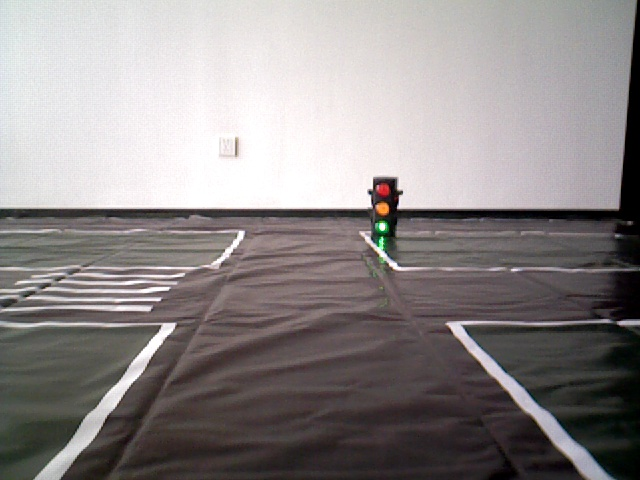green: (372, 177, 393, 234)
